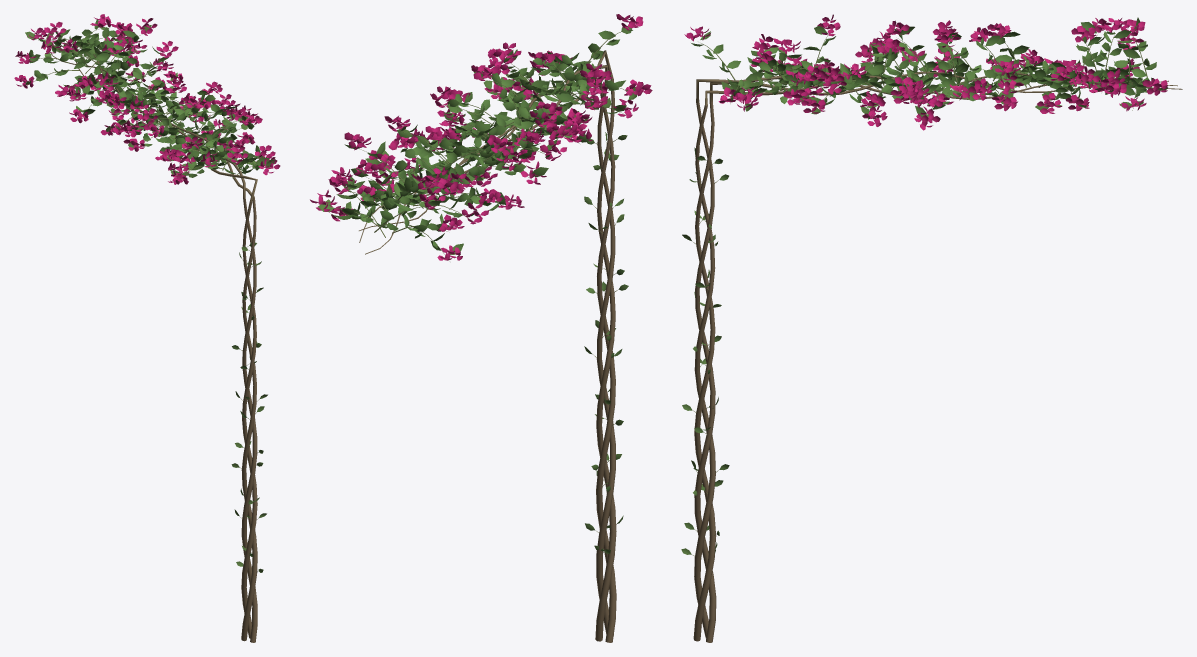
File: bougainvillea-glabra-light.glb
3 renders of one model, left to right at view 1: azimuth 30°, elevation 25°; view 2: azimuth 150°, elevation 25°; view 3: azimuth 270°, elevation 25°, orthographic. The views are drawn at different scales.
Parts seen in each view (by area): view 1: bougainvillea-glabra-light; view 2: bougainvillea-glabra-light; view 3: bougainvillea-glabra-light.
Boxes of the visible parts, x1,y1,x2,y2 form: bougainvillea-glabra-light: (14, 14, 280, 642); bougainvillea-glabra-light: (310, 14, 652, 642); bougainvillea-glabra-light: (681, 14, 1182, 642).
Bounding box in the file's own units: 0.7372 × 2.94 × 2.2.
